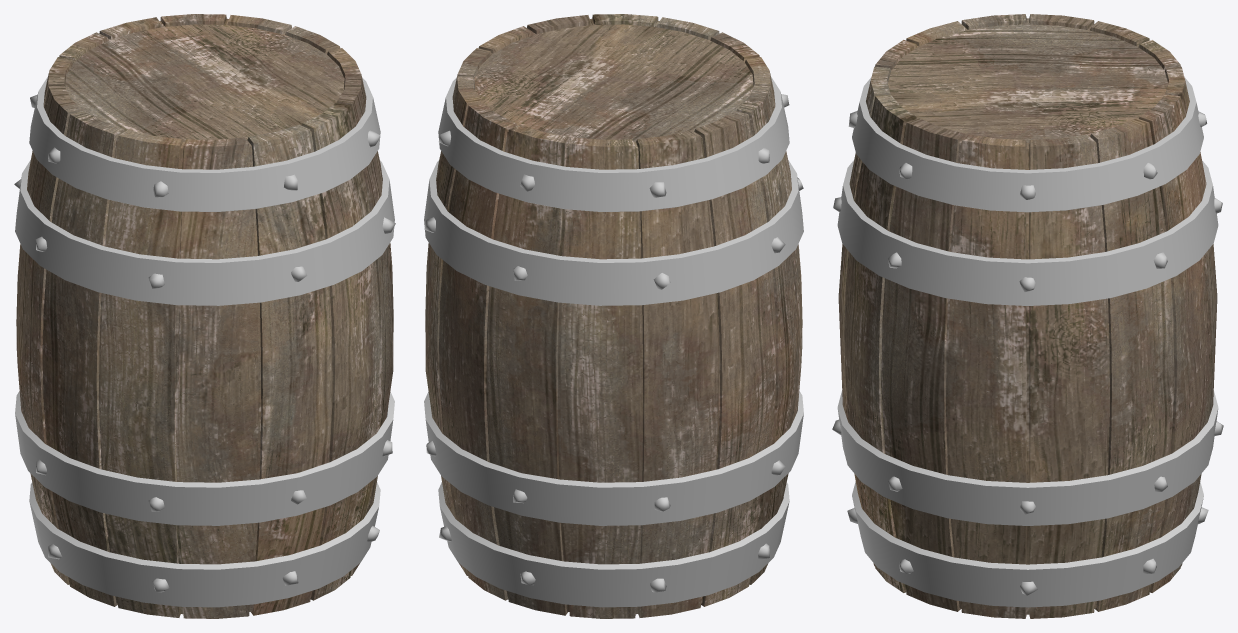
The model's file is SM_Barrel_01.fbx.
The picture shows the model from 3 angles, left to right: view 1: azimuth 30°, elevation 25°; view 2: azimuth 150°, elevation 25°; view 3: azimuth 270°, elevation 25°; orthographic projection.
Visible parts, largest first — view 1: SM_Barrel_01_LOD0; view 2: SM_Barrel_01_LOD0; view 3: SM_Barrel_01_LOD0.
Boxes of the visible parts, <box> form: SM_Barrel_01_LOD0: <box>14,14,395,618</box>; SM_Barrel_01_LOD0: <box>424,14,803,618</box>; SM_Barrel_01_LOD0: <box>832,14,1223,618</box>.
Size of the model in its own units: 54.84 by 54.93 by 73.08.
